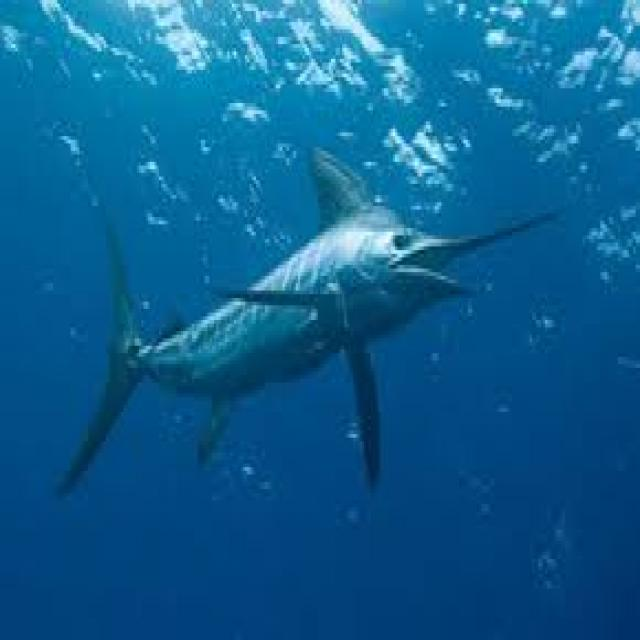Blue Marlin: (53, 140, 561, 500)
